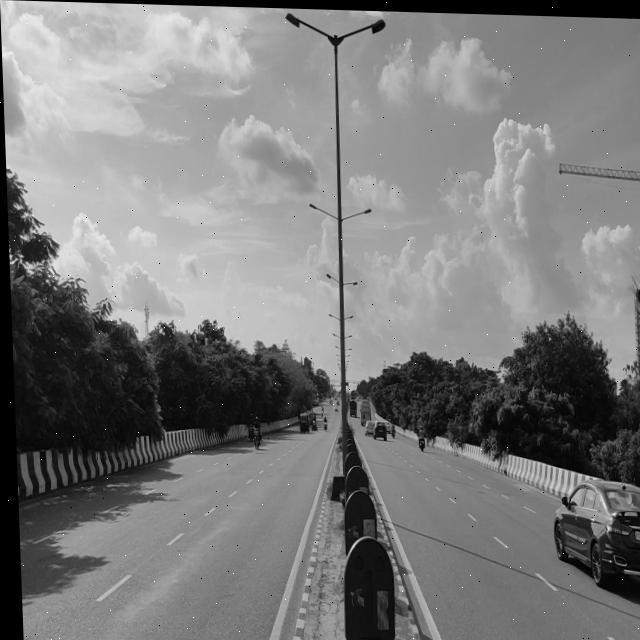car: (542, 475, 640, 587)
